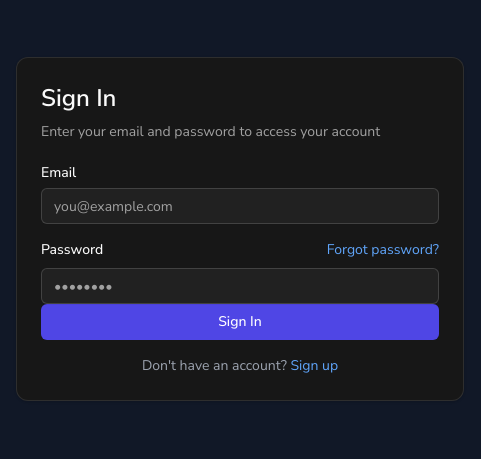
it: SignInPage error and 2FA handling (#198) › sends exactly one verification link toward the destination when refused as unverified
Type "test@example.com" into the field labelled "Email".
click(240, 206); type("test@example.com")  # box [41,188,439,224]
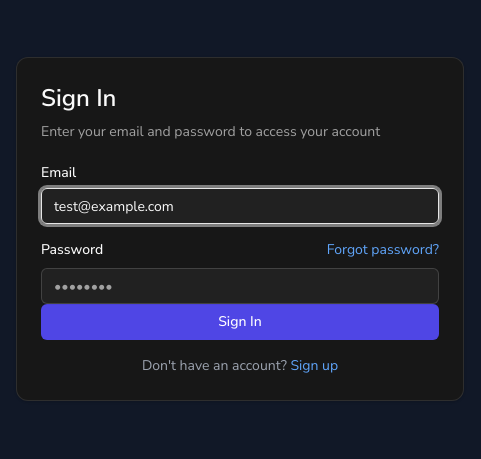
Type "pw1234" into the password field labelled "Password".
click(240, 286); type("pw1234")  # box [41,268,439,304]
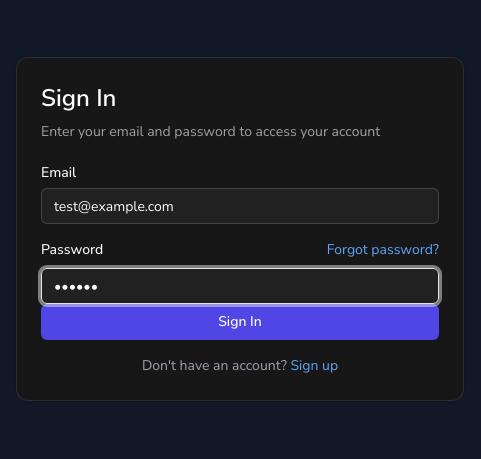
Click the button "Sign In".
click(240, 322)  # box [41,304,439,340]
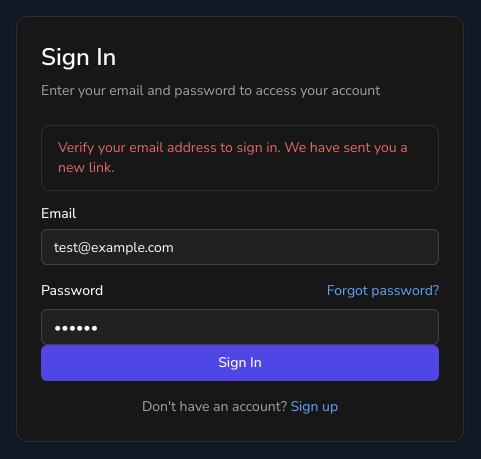
Result: the text "Verify your email address" is shown at [58,138,408,177]
